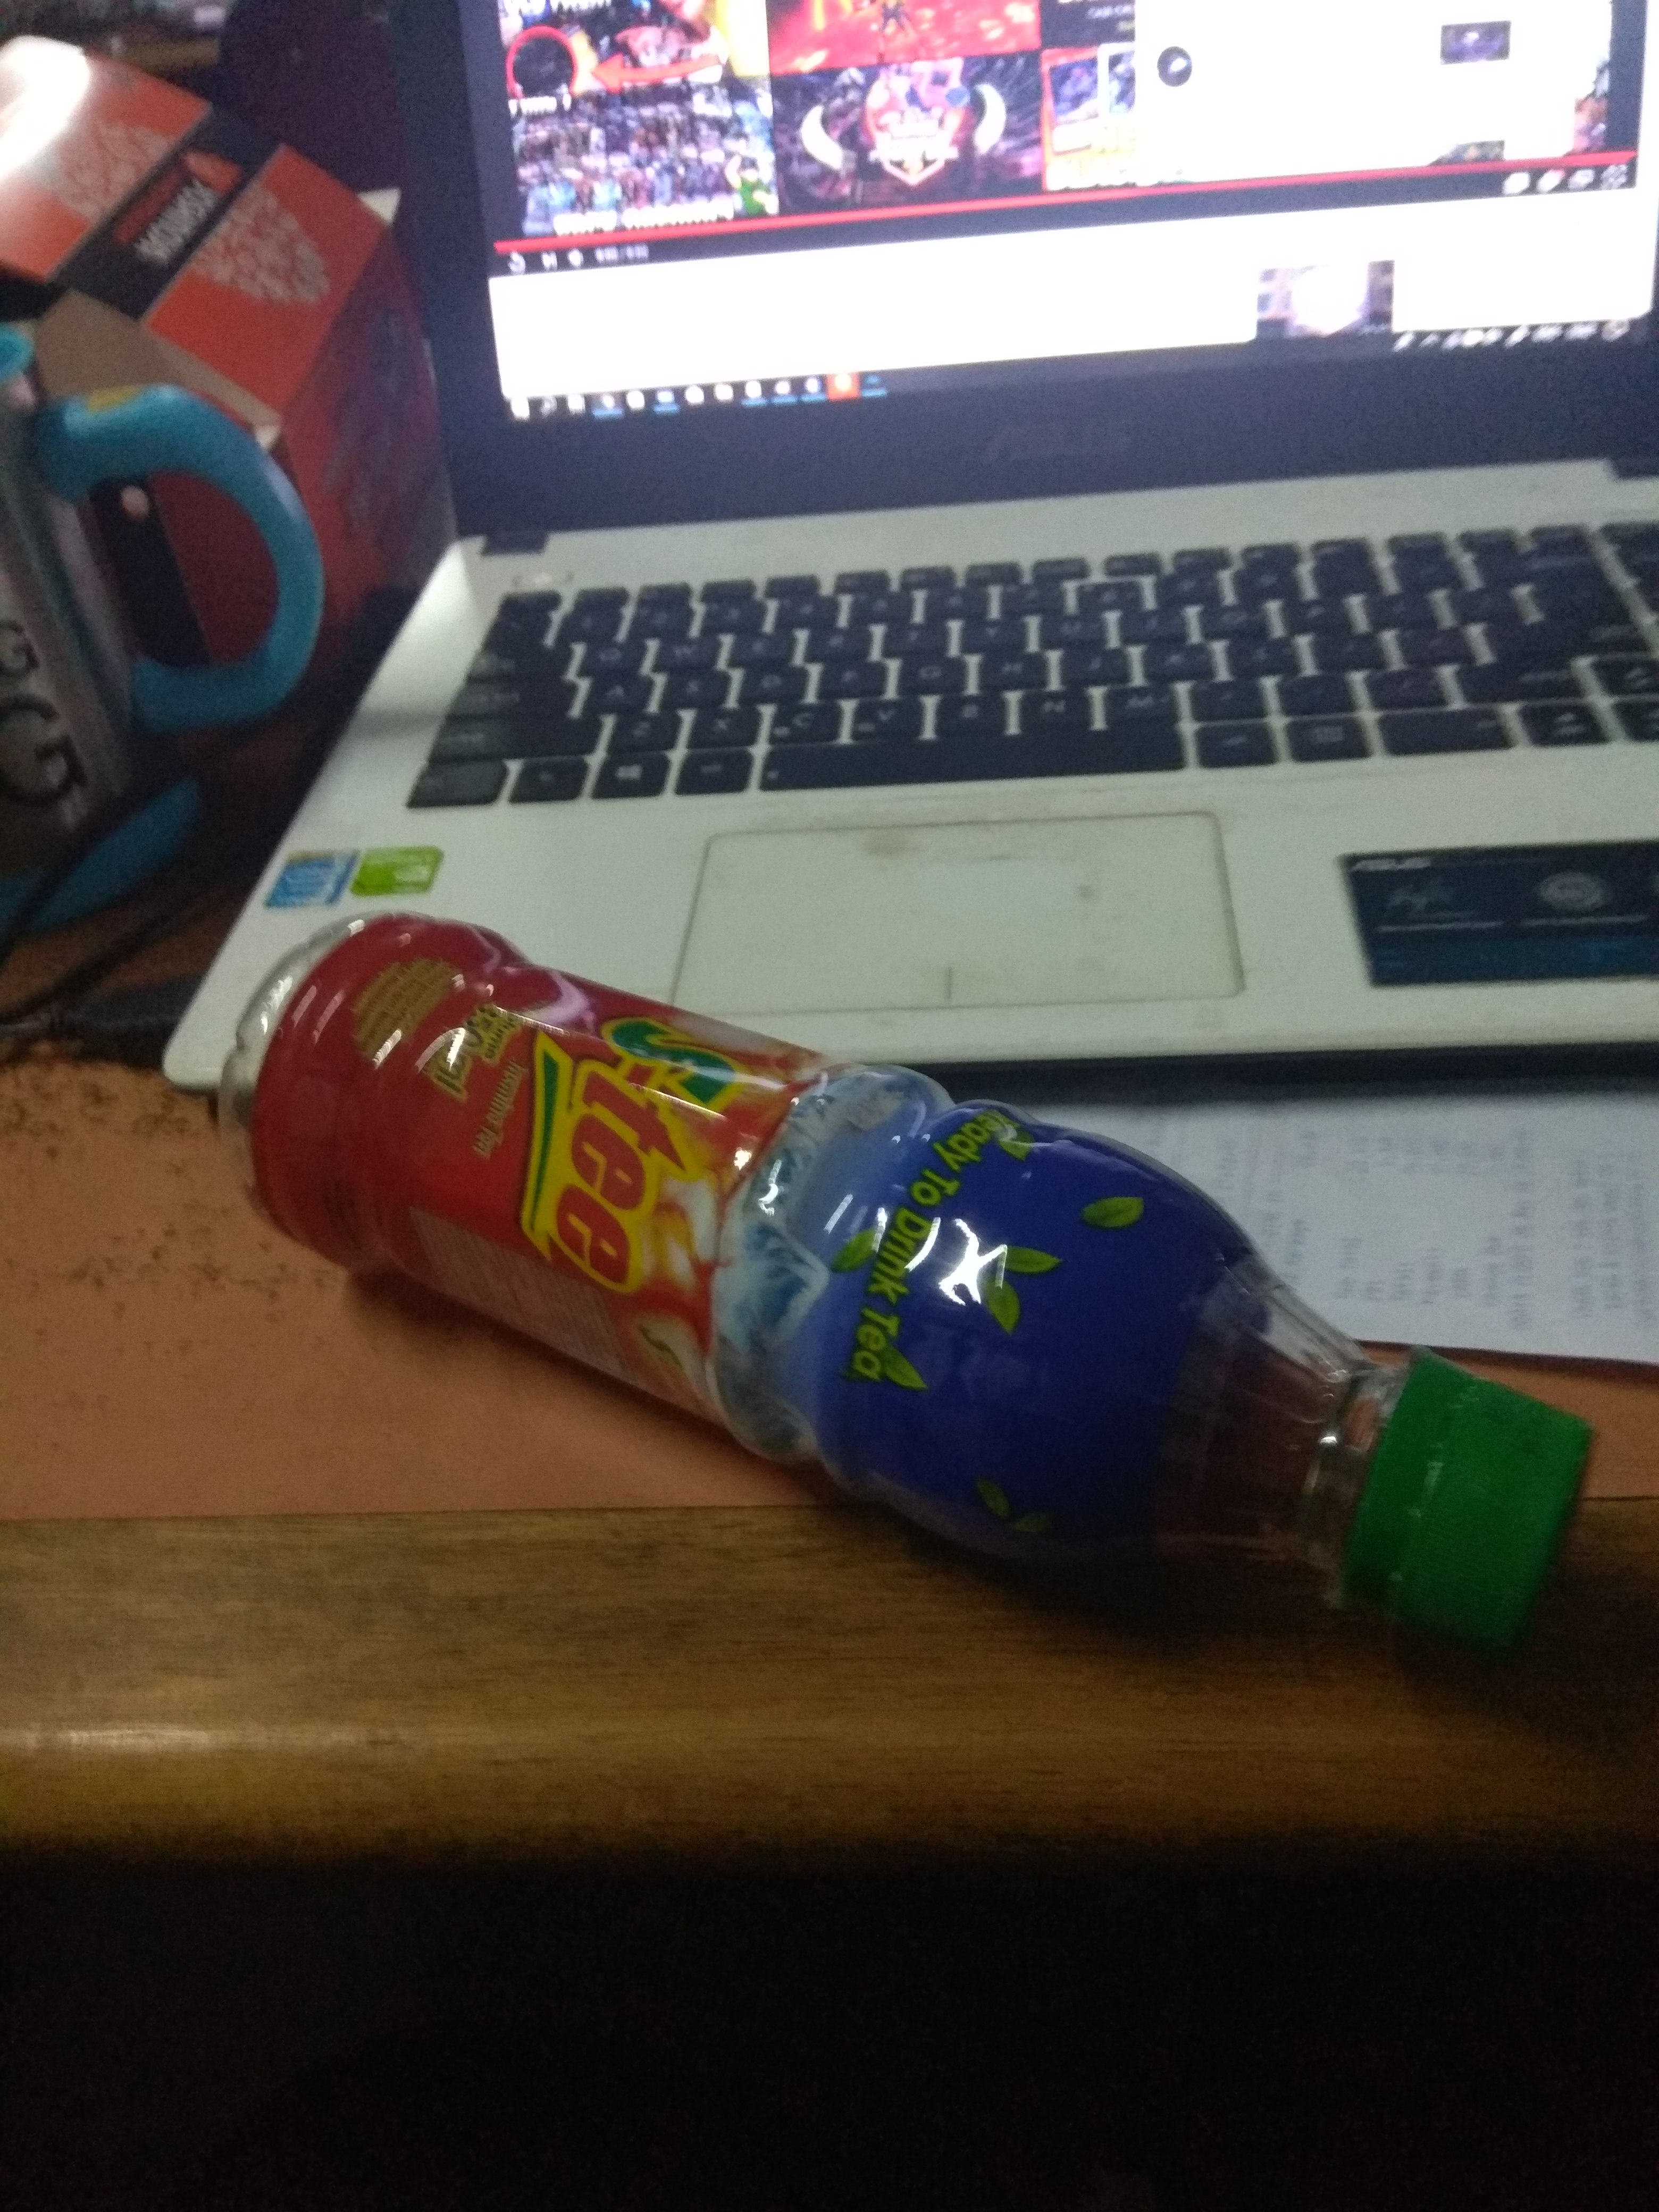botol: (220, 906, 1595, 1629)
